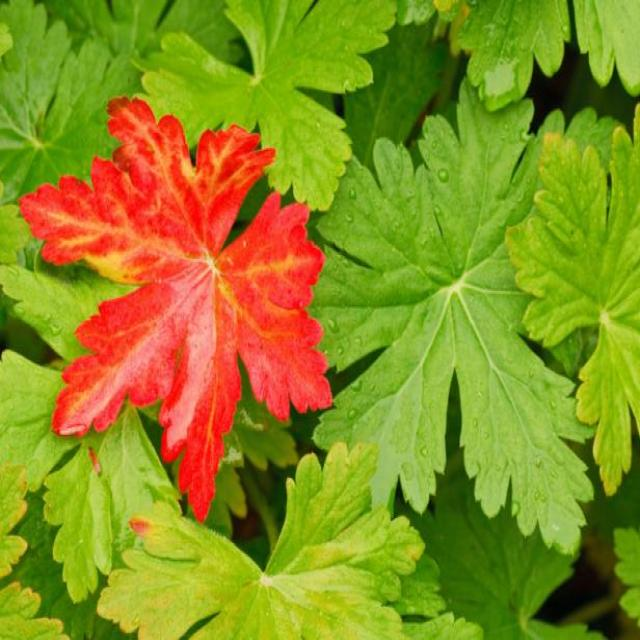green waste: (6, 4, 639, 631)
